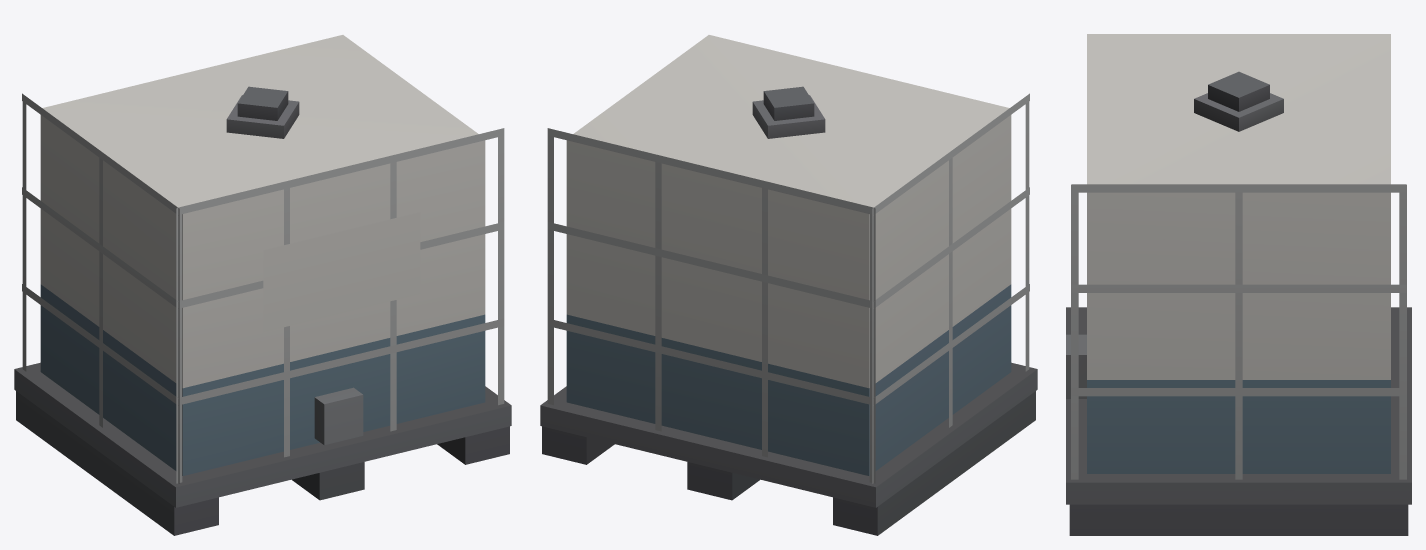
Rendered from ibc.lod1.glb.
The picture shows the model from 3 angles, left to right: view 1: azimuth 30°, elevation 25°; view 2: azimuth 150°, elevation 25°; view 3: azimuth 270°, elevation 25°; orthographic projection. The views are drawn at different scales.
Size of the model in its own units: 1.2 by 1.16 by 1.
